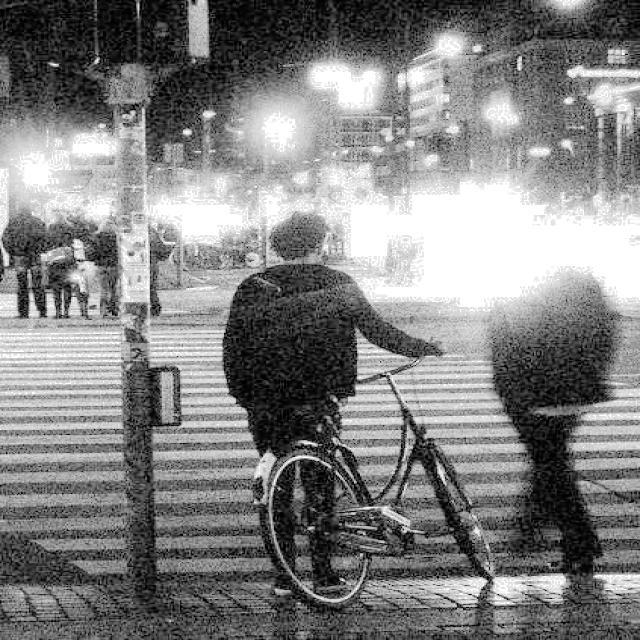Bicycle: (269, 357, 515, 627)
Person: (484, 217, 640, 615), (263, 211, 366, 437), (51, 189, 141, 323), (0, 177, 57, 350), (104, 199, 184, 313)
